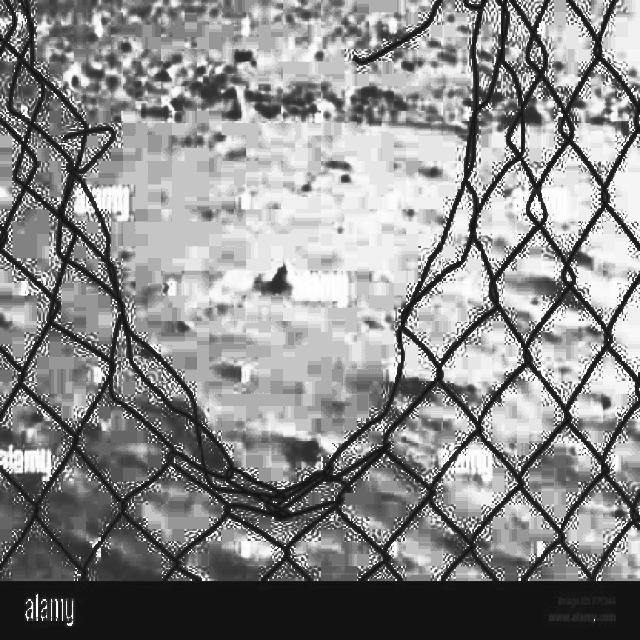anomaly-fence: (13, 0, 568, 539)
